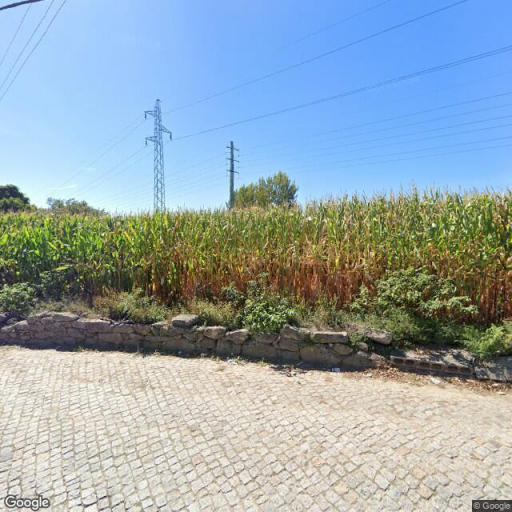mono_9: (225, 139, 241, 205)
ss_3: (142, 98, 175, 212)
